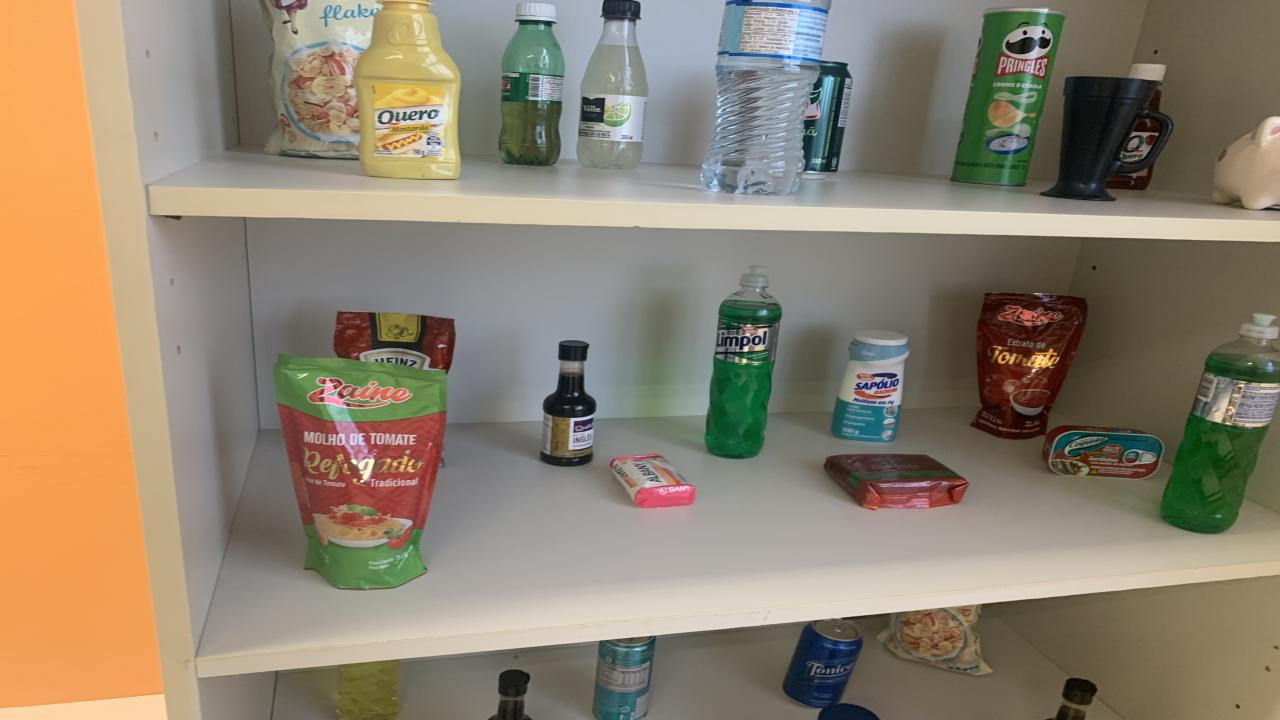Cleaner-Cleanup_Items: (832, 330, 910, 442)
Detergent-Cleanup_Items: (1160, 313, 1280, 532), (705, 266, 782, 458), (338, 660, 400, 720)
English_Sauce-Pantry_Items: (540, 339, 595, 467), (490, 669, 530, 720), (1055, 677, 1098, 720)
Flakes-Snacks: (260, 0, 380, 158), (878, 606, 992, 675)
Guarana-Drinks: (498, 4, 565, 165)
Guarana_Can-Drinks: (802, 62, 852, 174)
Guava-Snacks: (825, 454, 968, 510)
Ketchup-Pantry_Items: (1120, 118, 1160, 163), (1105, 165, 1152, 189), (1128, 64, 1165, 82), (1148, 88, 1162, 111)
Mayonnaise-Pantry_Items: (818, 703, 880, 720)
Mustard-Pantry_Items: (355, 0, 460, 180)
Pig_Safe-Miscellaneous: (1212, 116, 1280, 210)
Pringles-Snacks: (950, 8, 1065, 188)
Soap-Cleanup_Items: (610, 454, 695, 508)
Soda-Drinks: (578, 0, 648, 169)
Tea-Drinks: (592, 636, 655, 720)
Tomato_Sauce-Pantry_Items: (275, 354, 445, 589), (970, 292, 1088, 439), (332, 311, 455, 371)
Tonic-Drinks: (782, 619, 862, 707)
Tuna_Can-Pantry_Items: (1042, 426, 1162, 478)
Water_Bottle-Drinks: (702, 0, 830, 195)
